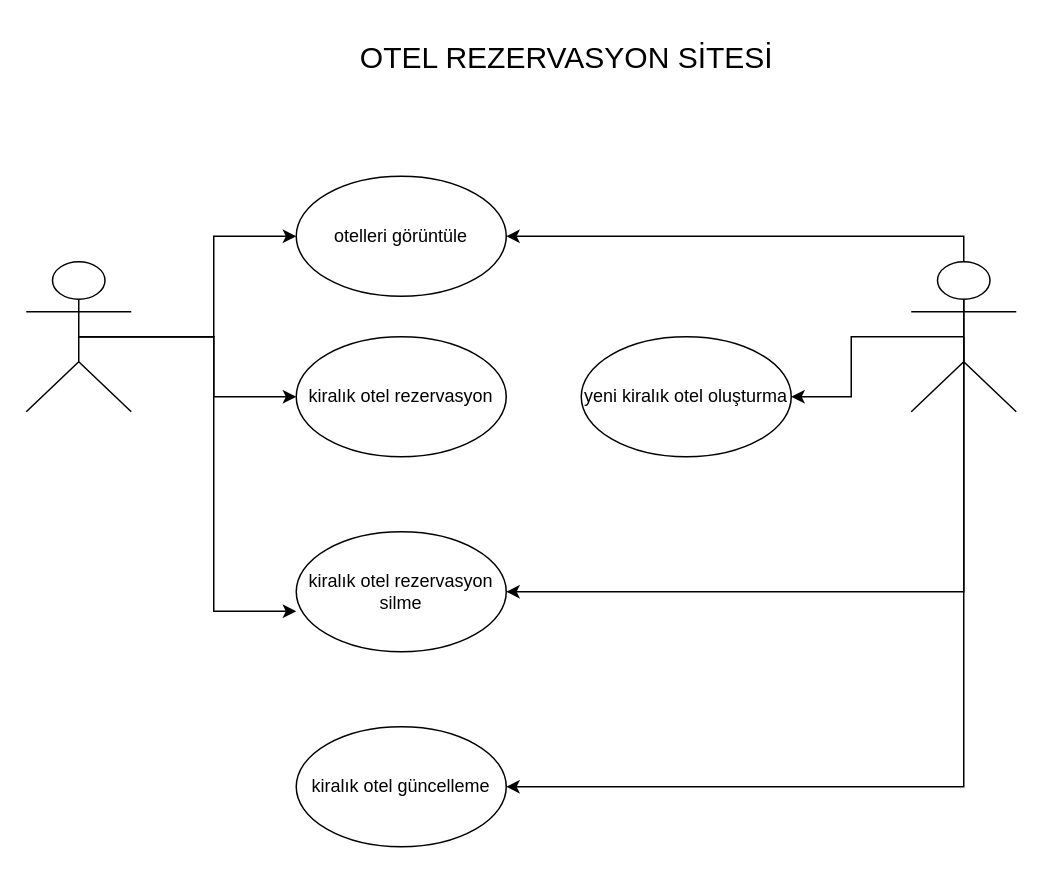
Image size: 1049x873. Some labels were removed from this diagram. The shapes that lost their labels are listed below. From the top down, each one's centre as x and y in pixels, then its label:
At point (78, 336): "Müşteri".
At point (963, 336): "Yetkili Admin".
